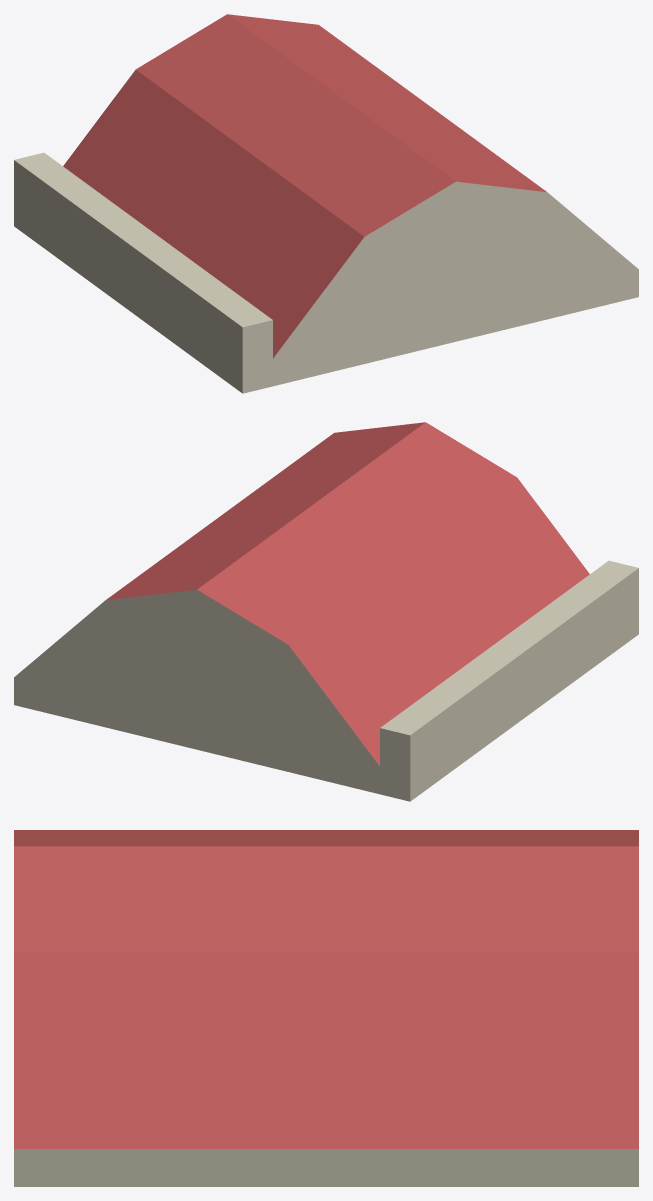
The model's file is Roof 46.FBX.
3 views of the same model, one above another, from view 1: azimuth 30°, elevation 25°; view 2: azimuth 150°, elevation 25°; view 3: azimuth 270°, elevation 25° (orthographic). The views are drawn at different scales.
Parts seen in each view (by area): view 1: Group234; view 2: Group234; view 3: Group234.
Part boxes in pixels (x1,y1,x2,y2): Group234: (14, 14, 638, 393); Group234: (14, 422, 638, 801); Group234: (14, 830, 638, 1186).
Size of the model in its own units: 29.53 by 11.4 by 29.53.
